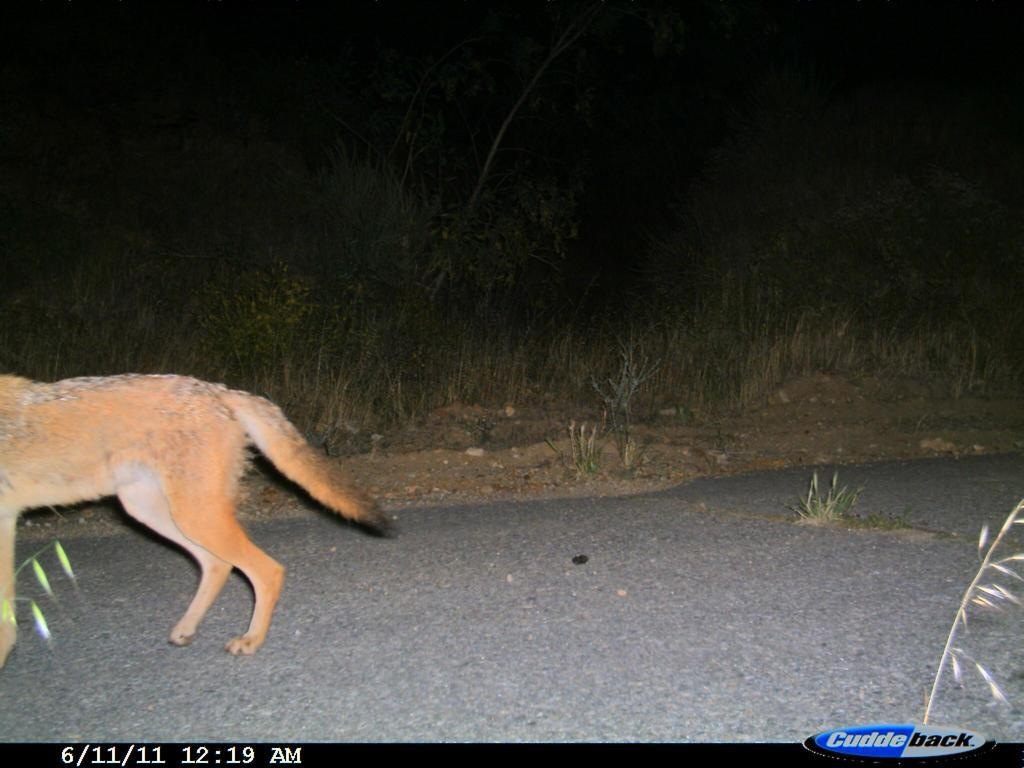coyote: (1, 365, 406, 681)
